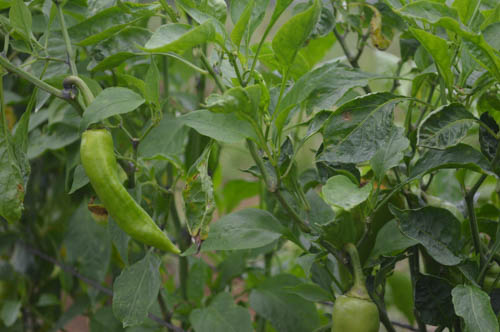ChiliPepper: (83, 131, 181, 254), (331, 297, 379, 332)
